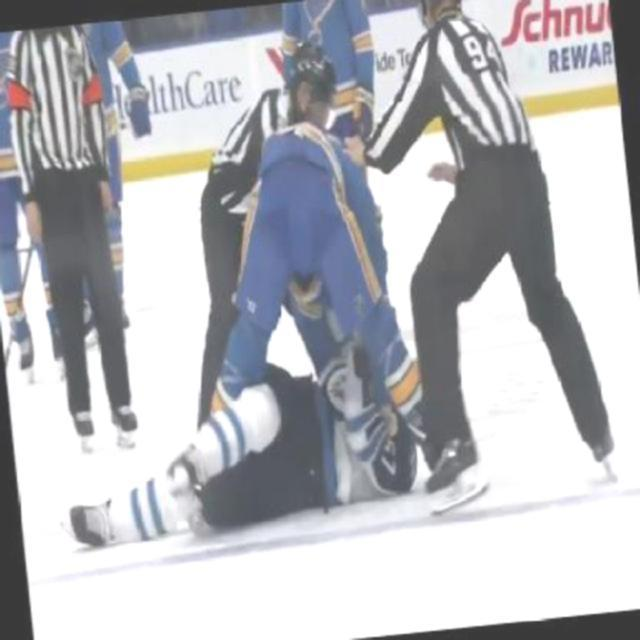fight: (159, 128, 424, 536)
